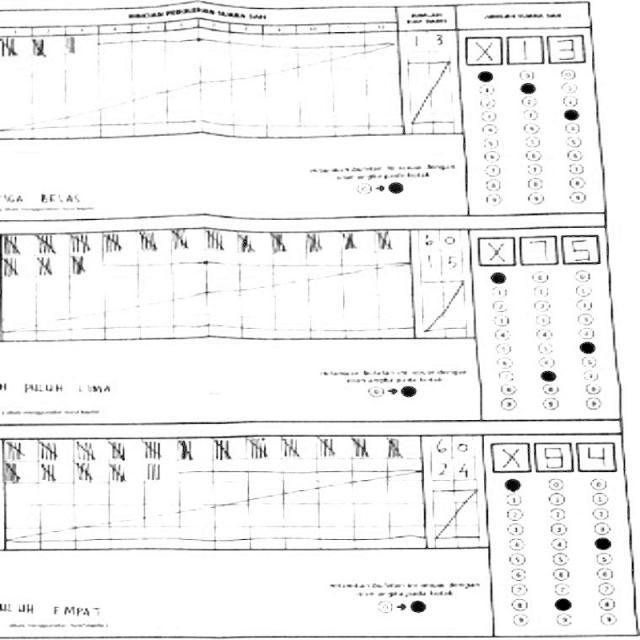Suara: (485, 438, 618, 476), (474, 230, 600, 266), (460, 34, 586, 64)
